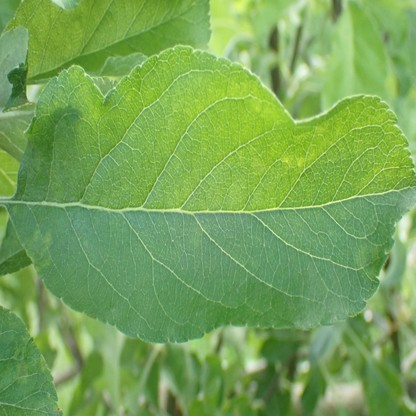scab: (25, 231, 52, 268), (356, 242, 379, 275), (16, 362, 28, 383), (40, 354, 48, 373)
